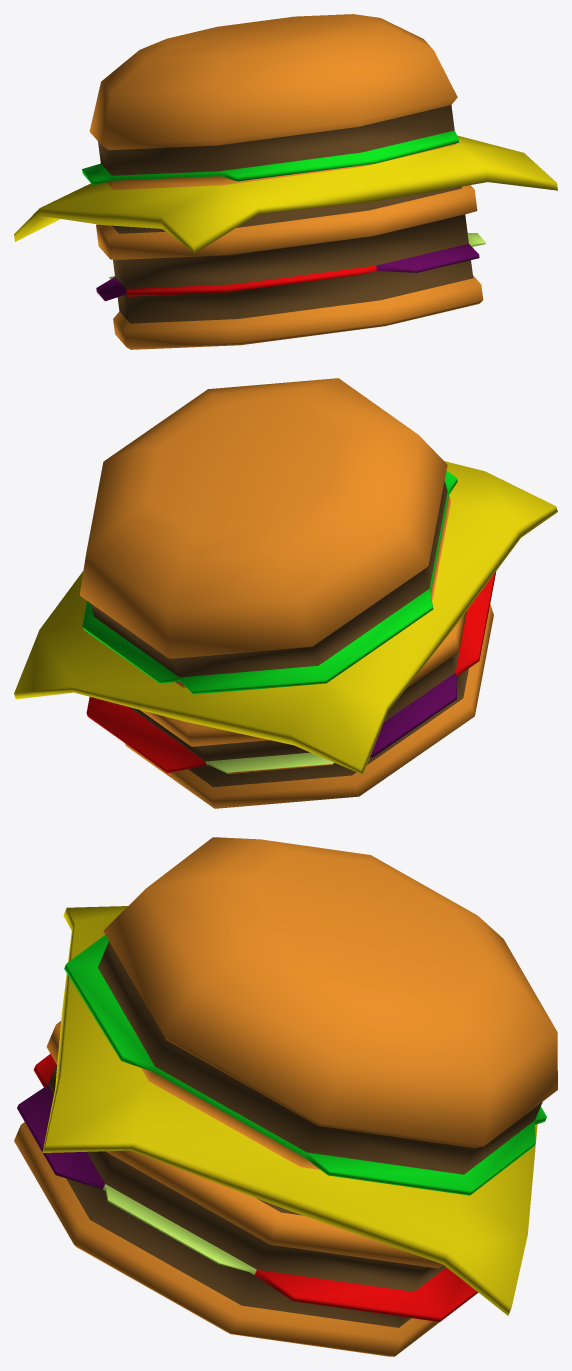
File: Burgor.fbx
3 renders of one model, top to bottom at view 1: azimuth 30°, elevation 25°; view 2: azimuth 150°, elevation 25°; view 3: azimuth 270°, elevation 25°, orthographic. The views are drawn at different scales.
Parts seen in each view (by area): view 1: Burger; view 2: Burger; view 3: Burger.
Part boxes in pixels (<box>): Burger: <box>14,14,557,349</box>; Burger: <box>14,378,557,808</box>; Burger: <box>14,837,557,1356</box>.
Bounding box in the file's own units: 33.75 × 30.63 × 35.18.
